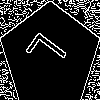L: (25, 30, 76, 79)
